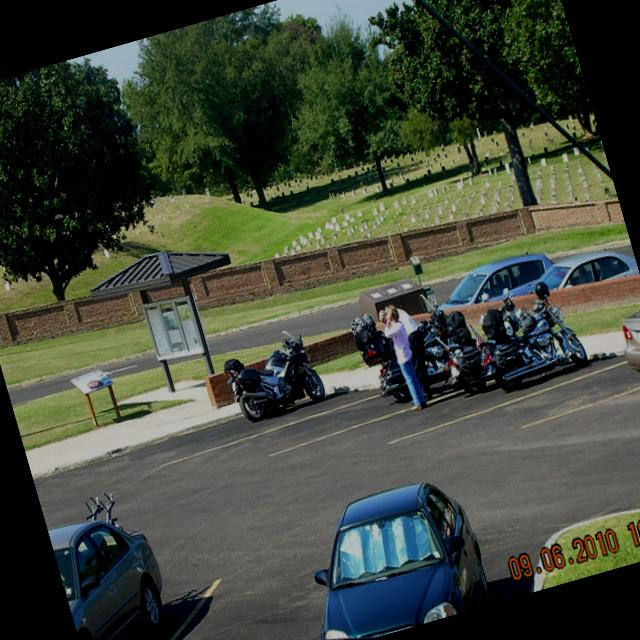Vehicle: (283, 468, 496, 640), (45, 495, 188, 640), (346, 289, 472, 412), (218, 329, 328, 426), (483, 299, 591, 392), (430, 244, 559, 317), (522, 234, 640, 307), (437, 326, 514, 401), (611, 298, 640, 388)
